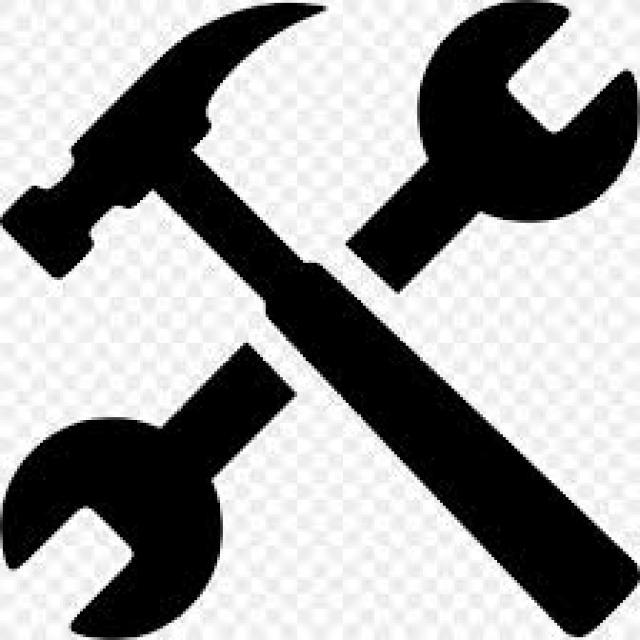hammer: (2, 1, 354, 348)
wrench: (2, 342, 294, 638), (353, 2, 640, 296)
